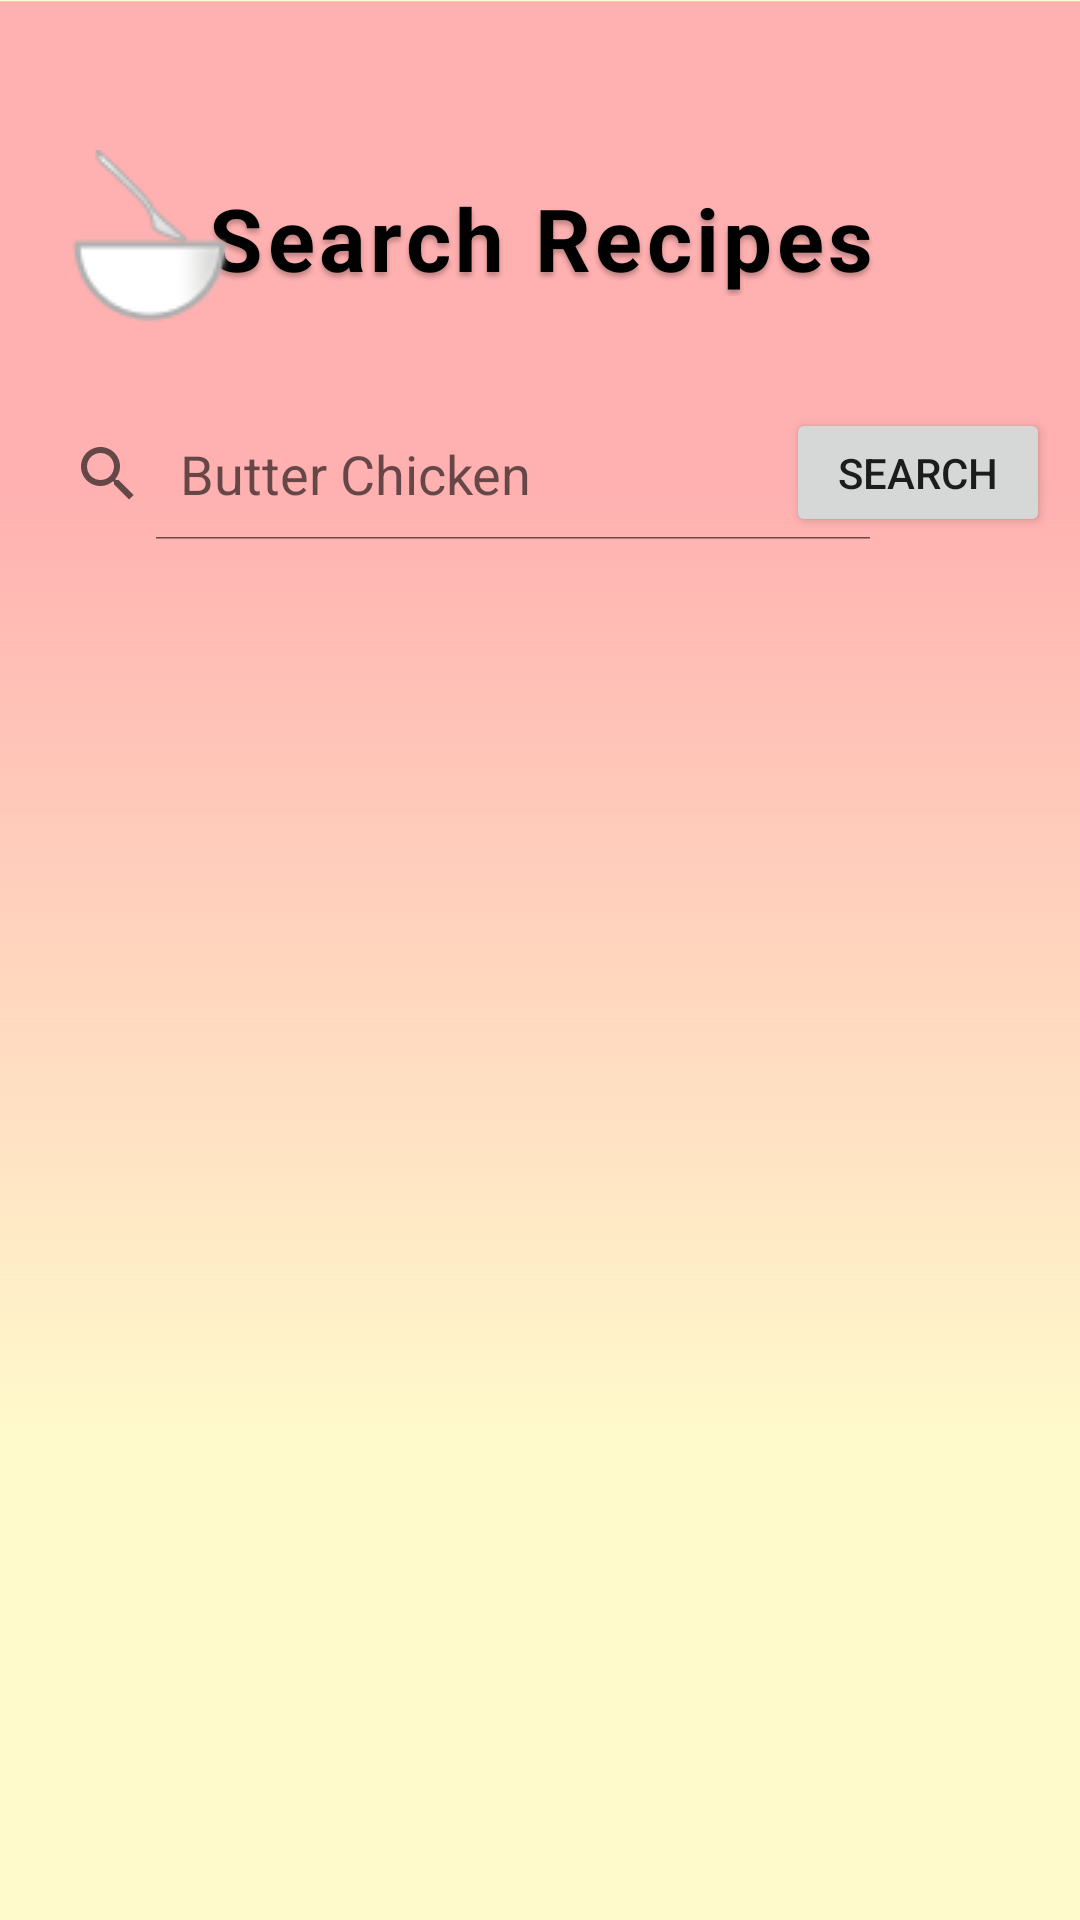

Screen size 1080px x 1920px. Icon name, then its box in pixels as [x1=x1, y1=y1, x2=x2, y2=y2]:
recipe page bowl: [x1=74, y1=150, x2=240, y2=321]
